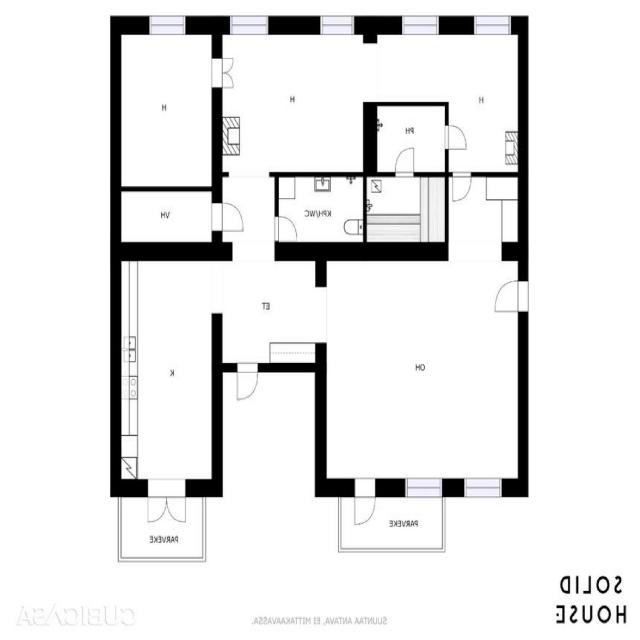door: (495, 281, 529, 311), (355, 478, 375, 524), (212, 203, 244, 231), (166, 479, 185, 522), (148, 479, 166, 522), (237, 363, 257, 399), (453, 172, 471, 202), (274, 217, 296, 241), (445, 125, 466, 149), (396, 149, 414, 177), (212, 58, 234, 73), (212, 73, 234, 87)
